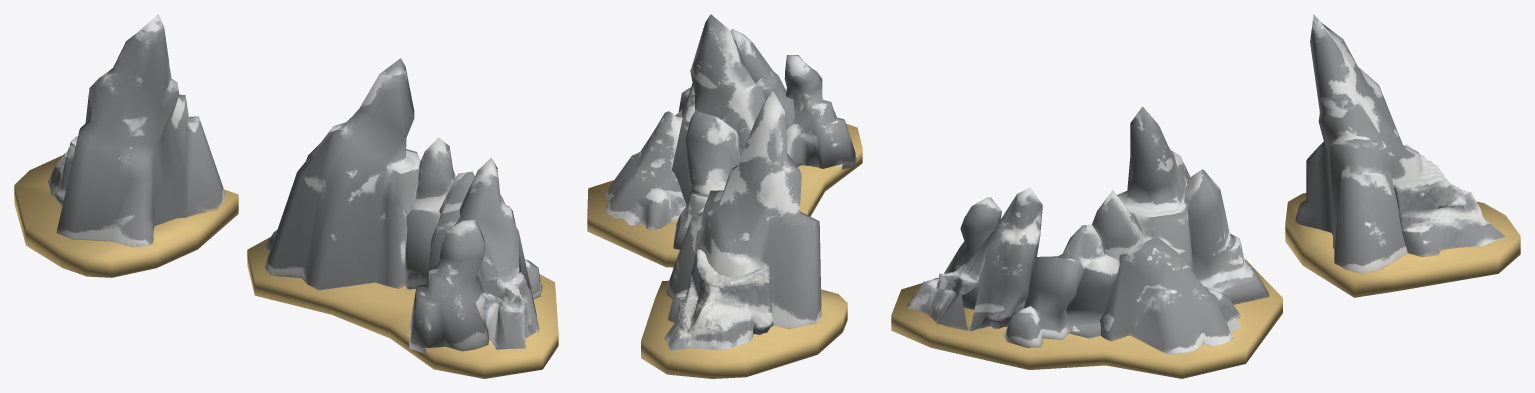
File: isle_17_p1.glb
3 renders of one model, left to right at view 1: azimuth 30°, elevation 25°; view 2: azimuth 150°, elevation 25°; view 3: azimuth 270°, elevation 25°, orthographic. The views are drawn at different scales.
Parts seen in each view (by area): view 1: tripo_node_e291e3ed-443a-4f92-8127-e5b60a80f2db; view 2: tripo_node_e291e3ed-443a-4f92-8127-e5b60a80f2db; view 3: tripo_node_e291e3ed-443a-4f92-8127-e5b60a80f2db.
Boxes of the visible parts, <box> form: tripo_node_e291e3ed-443a-4f92-8127-e5b60a80f2db: <box>14,14,558,378</box>; tripo_node_e291e3ed-443a-4f92-8127-e5b60a80f2db: <box>587,14,862,378</box>; tripo_node_e291e3ed-443a-4f92-8127-e5b60a80f2db: <box>891,14,1520,378</box>.
Bounding box in the file's own units: 0.6504 × 0.4121 × 0.998.
1 material, 1 textured.
